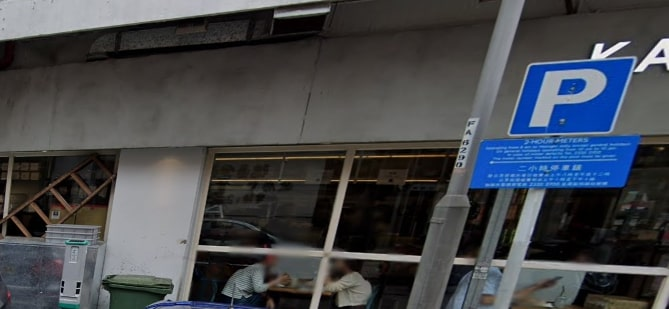Parking: (501, 39, 630, 143)
